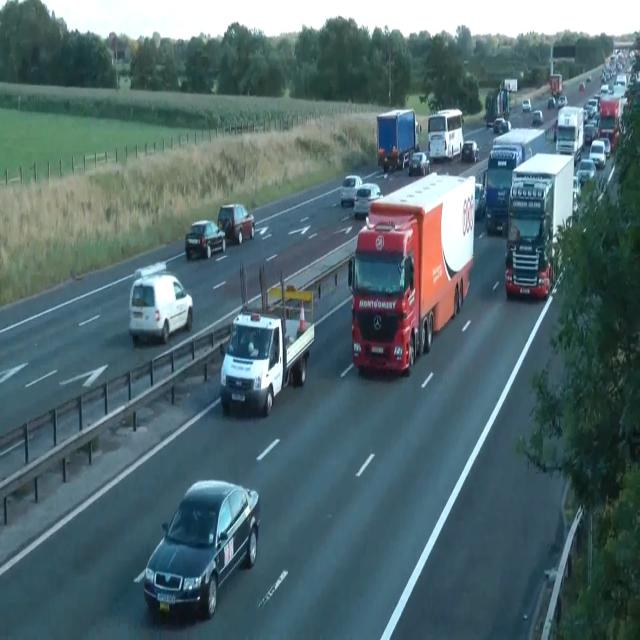bus: (143, 478, 261, 620), (353, 182, 383, 220), (340, 174, 362, 207), (576, 158, 596, 187), (408, 151, 430, 176), (474, 182, 486, 219), (462, 140, 480, 162), (573, 174, 581, 220), (583, 123, 596, 144), (599, 136, 611, 157), (493, 118, 505, 134), (532, 108, 543, 124), (499, 120, 511, 134), (521, 98, 531, 112), (558, 95, 568, 108), (547, 97, 555, 108), (579, 82, 585, 92), (586, 76, 591, 82)
jeep: (127, 264, 193, 345), (184, 218, 226, 260), (217, 202, 255, 244)
minibus: (348, 171, 476, 376), (219, 283, 315, 417), (504, 152, 574, 300), (483, 126, 547, 236), (376, 108, 421, 172), (428, 108, 464, 162), (555, 105, 585, 163), (485, 87, 510, 128), (549, 73, 562, 96), (504, 78, 518, 92)
